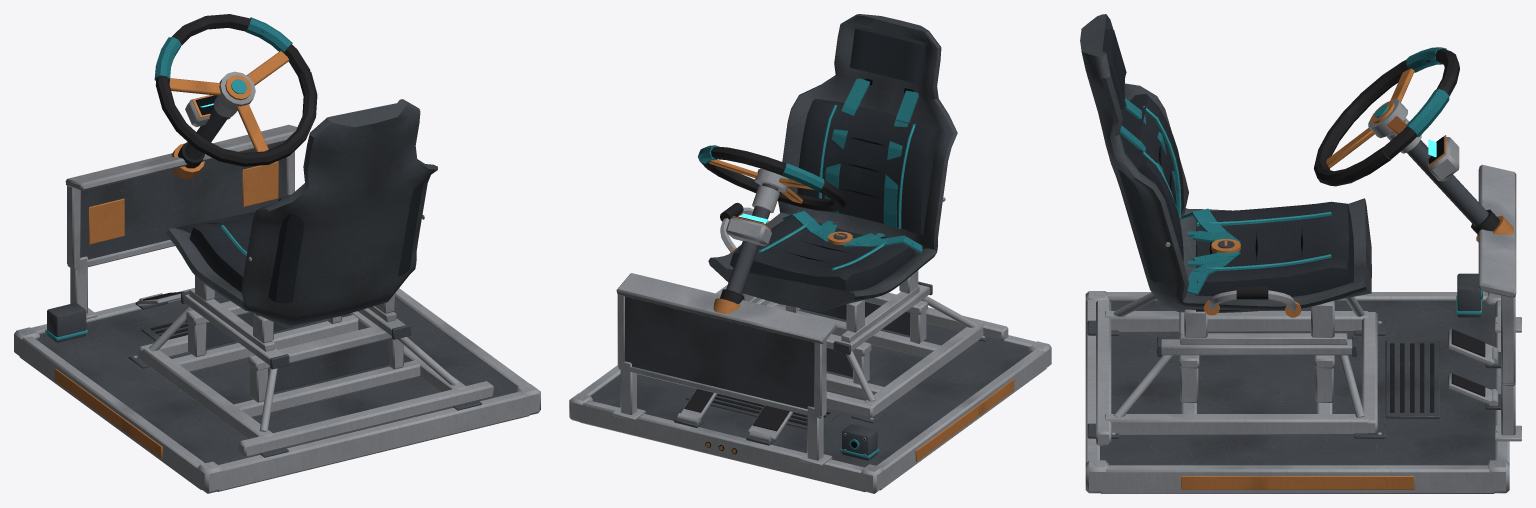
File: drivers_seat_3.glb
The picture shows the model from 3 angles, left to right: view 1: azimuth 30°, elevation 25°; view 2: azimuth 150°, elevation 25°; view 3: azimuth 270°, elevation 25°; orthographic projection. The views are drawn at different scales.
Parts seen in each view (by area): view 1: Base, ShellFrame, Steering, Backrest, Cushion; view 2: Base, Backrest, ShellFrame, Cushion, Steering, Brake, Throttle; view 3: Base, ShellFrame, Cushion, Steering, Backrest, Brake, Throttle.
Part boxes in pixels (<box>): Base: <box>14,95,540,493</box>; ShellFrame: <box>166,99,437,343</box>; Steering: <box>154,14,317,166</box>; Backrest: <box>268,181,423,303</box>; Cushion: <box>189,216,258,315</box>; Base: <box>569,183,1051,493</box>; Backrest: <box>797,27,941,233</box>; ShellFrame: <box>708,14,957,332</box>; Cushion: <box>730,210,922,291</box>; Steering: <box>698,145,846,211</box>; Brake: <box>747,405,792,440</box>; Throttle: <box>681,388,716,420</box>; Base: <box>1085,118,1521,493</box>; ShellFrame: <box>1080,14,1371,337</box>; Cushion: <box>1182,201,1354,312</box>; Steering: <box>1314,47,1459,186</box>; Backrest: <box>1102,28,1183,282</box>; Brake: <box>1448,329,1494,365</box>; Throttle: <box>1448,373,1492,404</box>.
Size of the model in its own units: 0.948 by 0.9075 by 0.9791.
11 materials, 7 textured.
